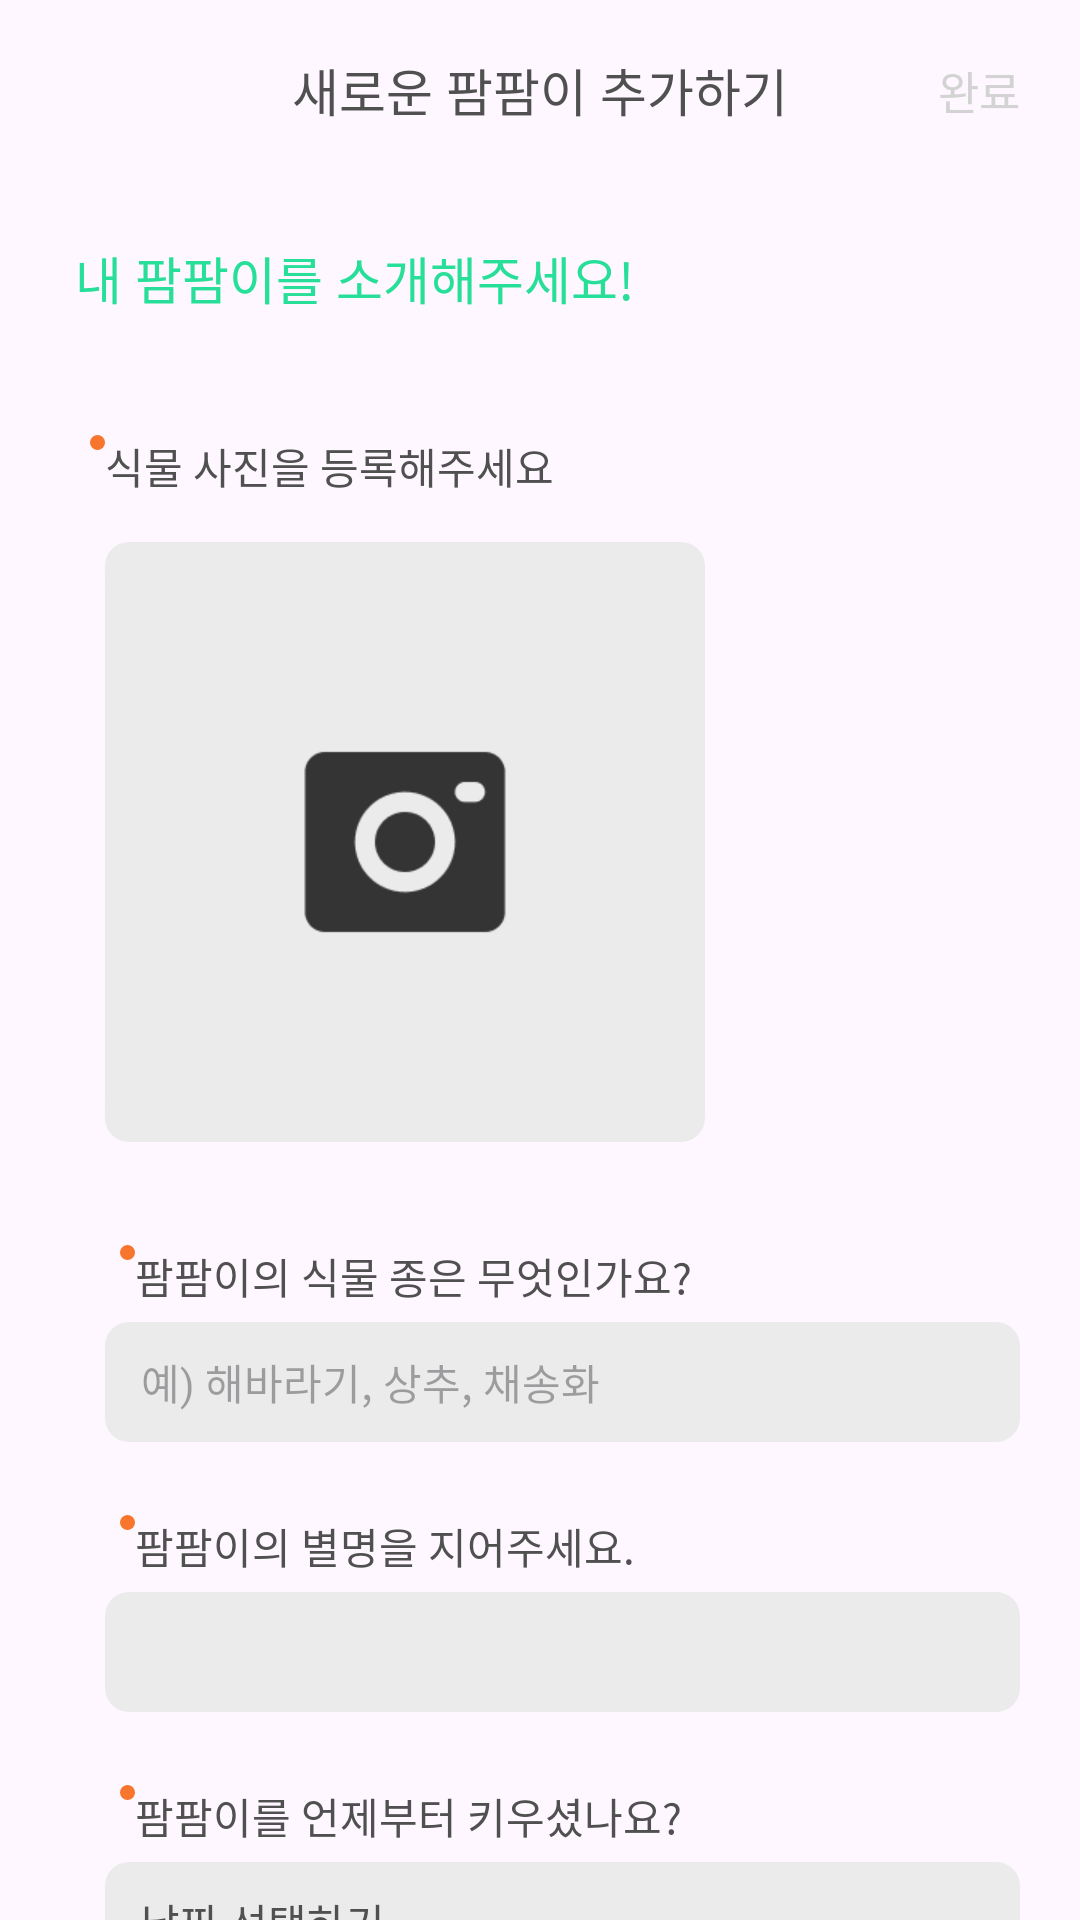

Screen size 1080×1920. Icon name, then its center in pixels as (x,y):
register camera: (405,842)
